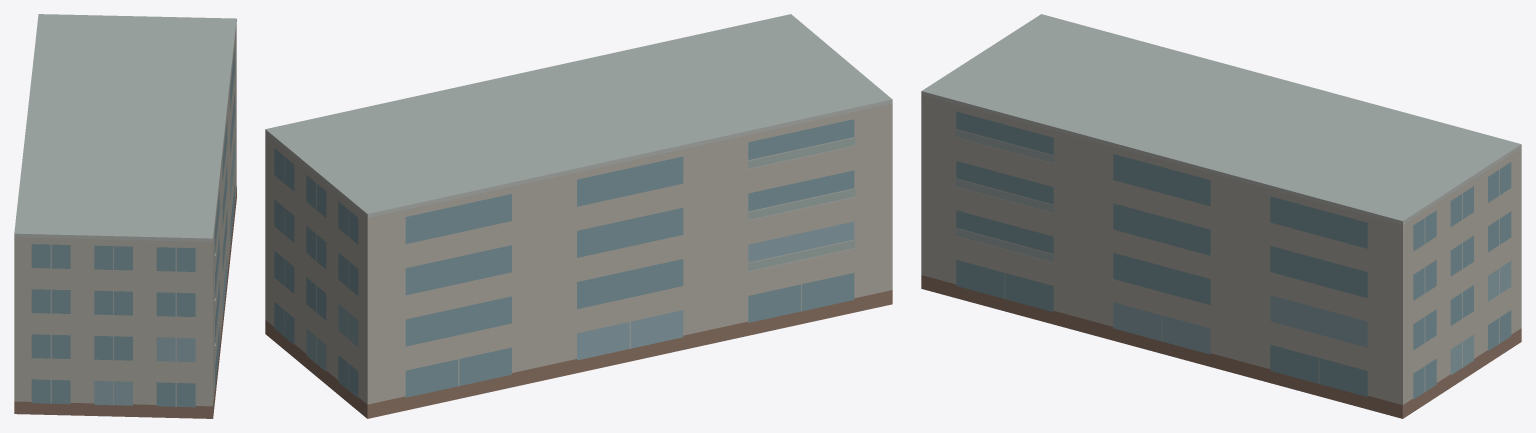
The model's file is survey-upis-32731722.glb.
The picture shows the model from 3 angles, left to right: view 1: azimuth 30°, elevation 25°; view 2: azimuth 150°, elevation 25°; view 3: azimuth 270°, elevation 25°; orthographic projection. The views are drawn at different scales.
Parts seen in each view (by area): view 1: survey-upis-32731722.tmp; view 2: survey-upis-32731722.tmp; view 3: survey-upis-32731722.tmp.
Boxes of the visible parts, bbox=[...] form: survey-upis-32731722.tmp: bbox=[14, 14, 236, 418]; survey-upis-32731722.tmp: bbox=[265, 14, 892, 418]; survey-upis-32731722.tmp: bbox=[921, 14, 1521, 418].
Size of the model in its own units: 27.88 by 12.4 by 34.12.
